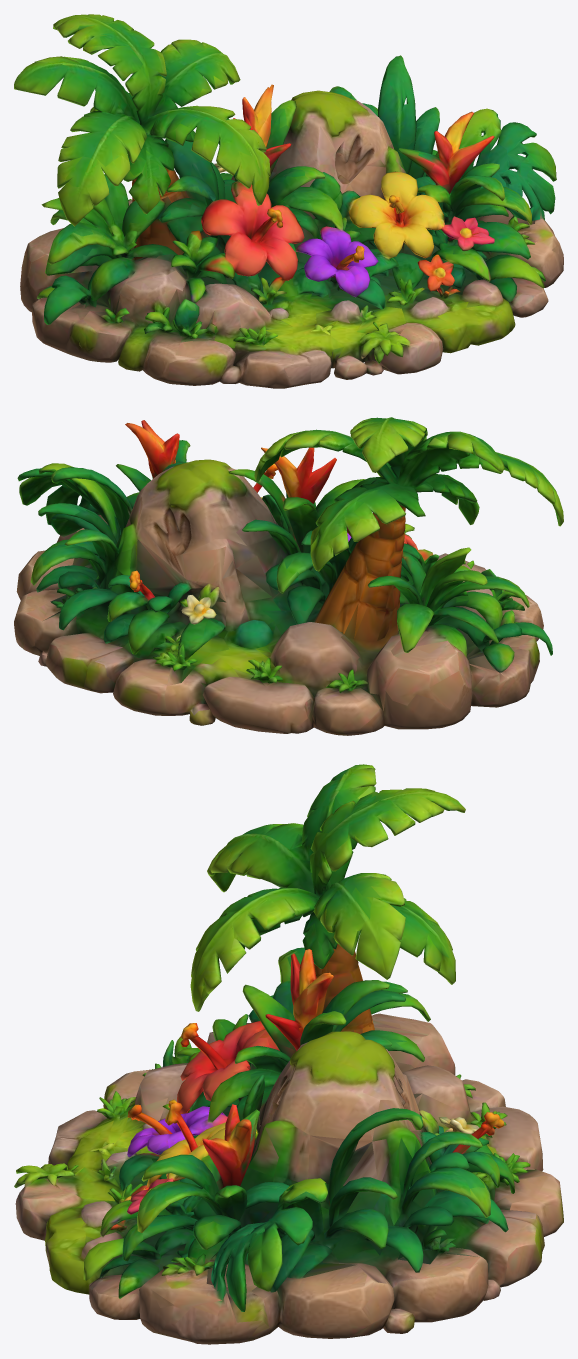
Rendered from flower_bush.glb.
3 views of the same model, one above another, from view 1: azimuth 30°, elevation 25°; view 2: azimuth 150°, elevation 25°; view 3: azimuth 270°, elevation 25° (orthographic). The views are drawn at different scales.
Parts seen in each view (by area): view 1: flower_bush; view 2: flower_bush; view 3: flower_bush.
Boxes of the visible parts, x1,y1,x2,y2 form: flower_bush: (14,14,563,388); flower_bush: (14,417,563,735); flower_bush: (14,764,563,1344).
Size of the model in its own units: 5.43 by 2.8 by 4.18.
1 material, 1 textured.
